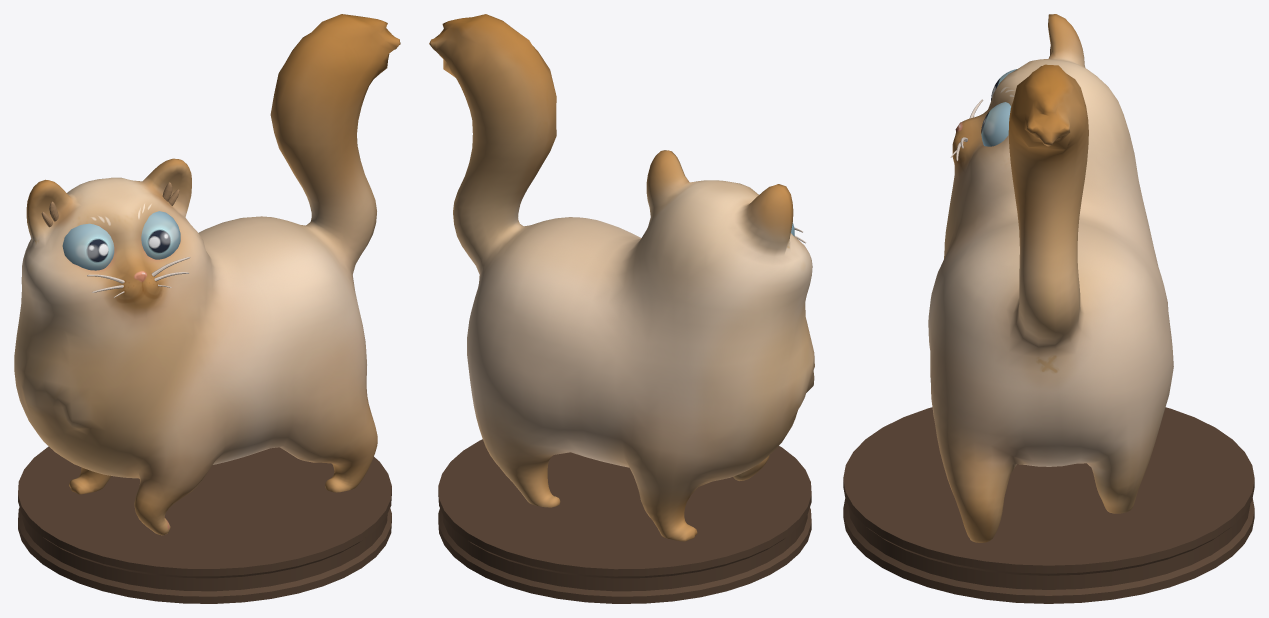
The model's file is cat.glb.
The picture shows the model from 3 angles, left to right: view 1: azimuth 30°, elevation 25°; view 2: azimuth 150°, elevation 25°; view 3: azimuth 270°, elevation 25°; orthographic projection. The views are drawn at different scales.
Visible parts, largest first — view 1: Object_2, Object_3; view 2: Object_2, Object_3; view 3: Object_2, Object_3.
Part boxes in pixels (x1,y1,x2,y2): Object_2: (14,14,400,568); Object_3: (18,182,391,603); Object_2: (429,14,814,569); Object_3: (438,227,811,603); Object_2: (843,14,1254,565); Object_3: (843,47,1254,603).
Bounding box in the file's own units: 2.04 × 2.49 × 1.78.
1 material, 1 textured.
